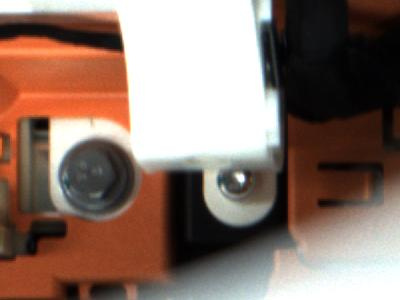nut_b: (52, 141, 130, 217)
